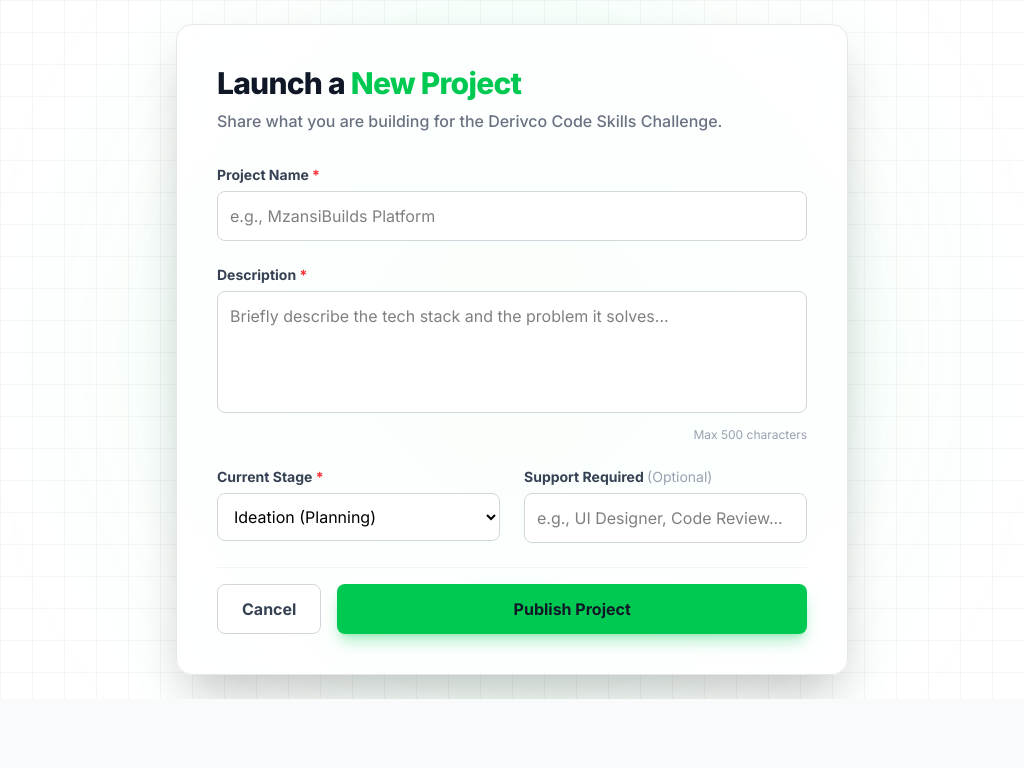
NewProjectPage Component › displays an error message if the API returns a failure
# Fill out the form and submit
Type "Bad Data" into the field labelled "Project Name *". click: (512, 216)
box: left=217, top=191, right=807, bottom=241
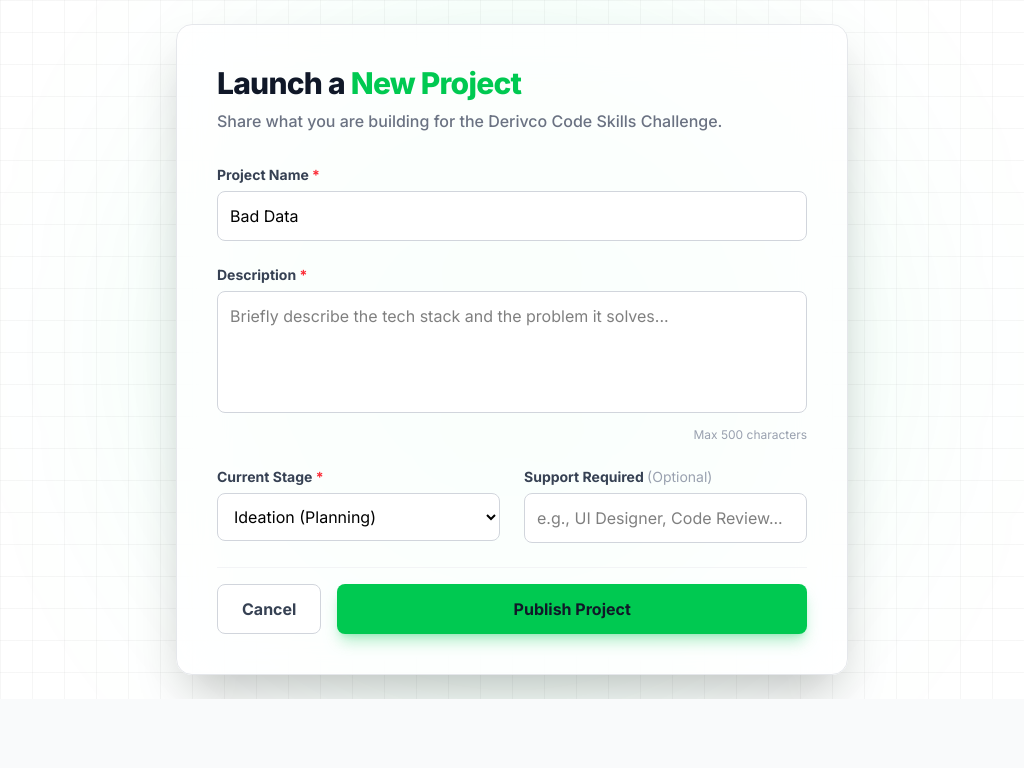
Type "Short text" into the text box labelled "Description *". click: (512, 352)
box: left=217, top=291, right=807, bottom=413
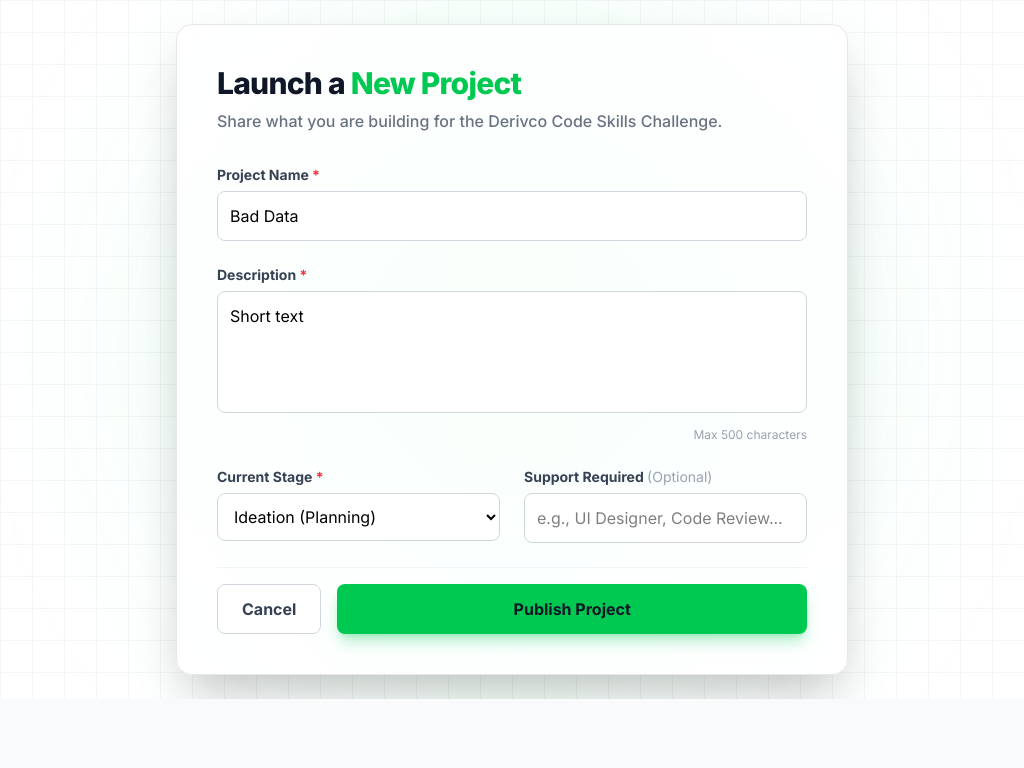
Submit the form from the button "Publish Project", box left=337, top=584, right=807, bottom=634
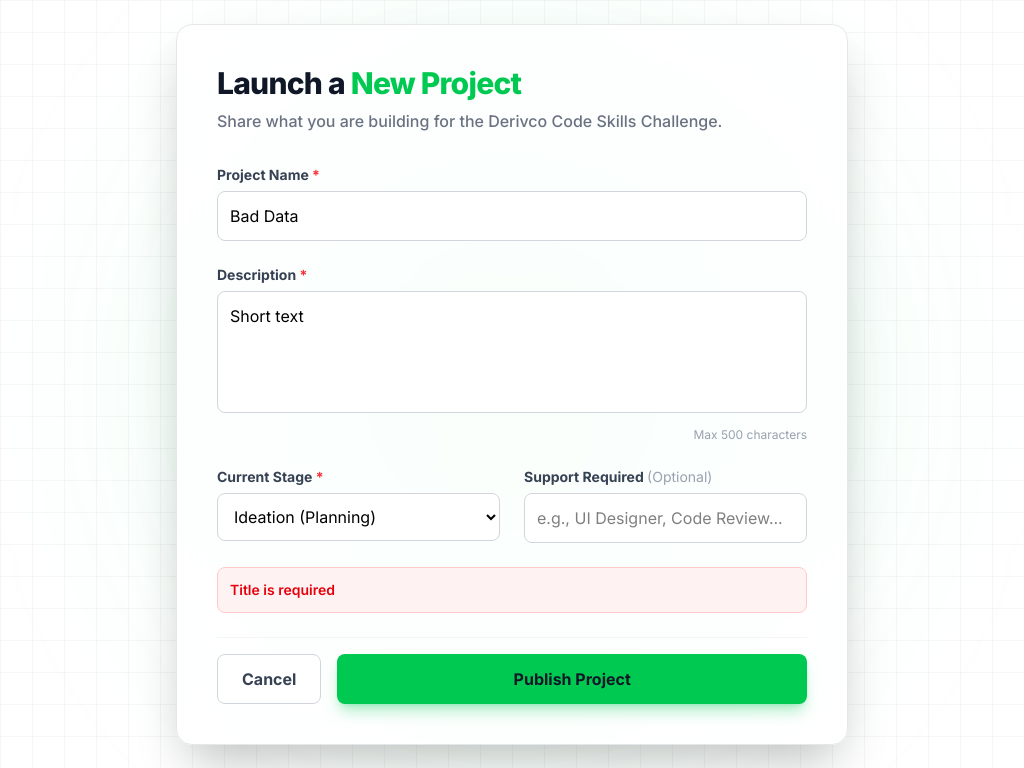
Check: the text "Title is required" is shown, box left=217, top=567, right=807, bottom=613
